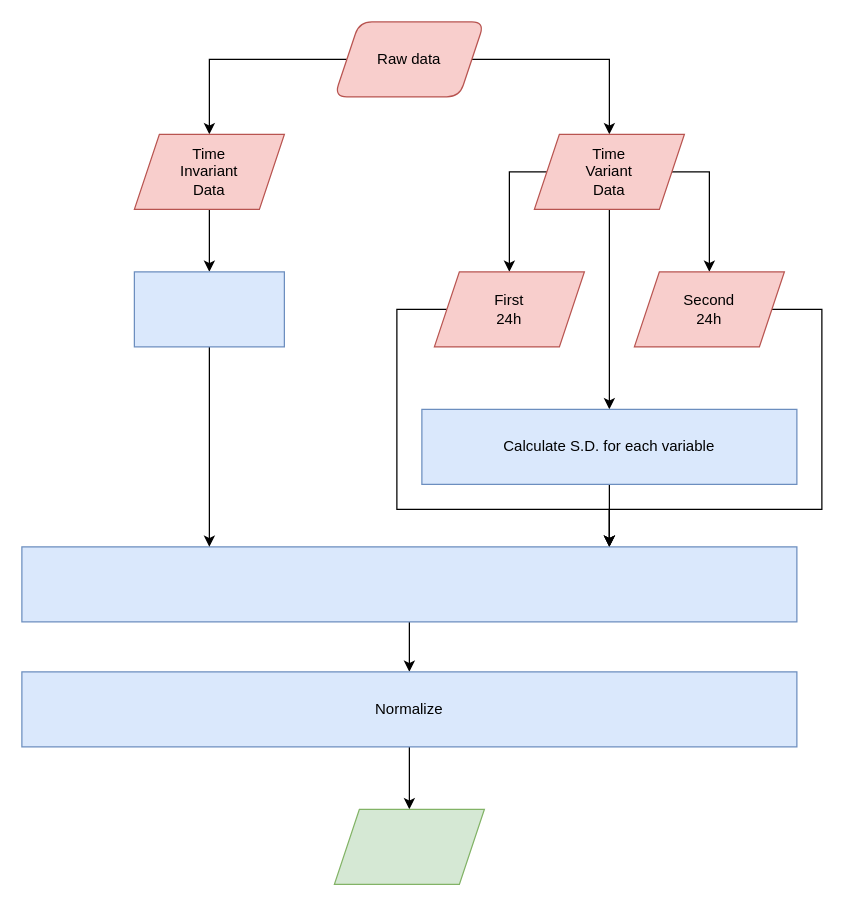
Some shapes in this 854 by 906 pixel diagram are drawn without their labels. The centre of each missing label's shape, as x and y in pixels:
"Final Dataset" belongs at [408,846].
"Impute missing values with median" belongs at [409,584].
"One-hot Encoding for Categorical Data" belongs at [208,309].
